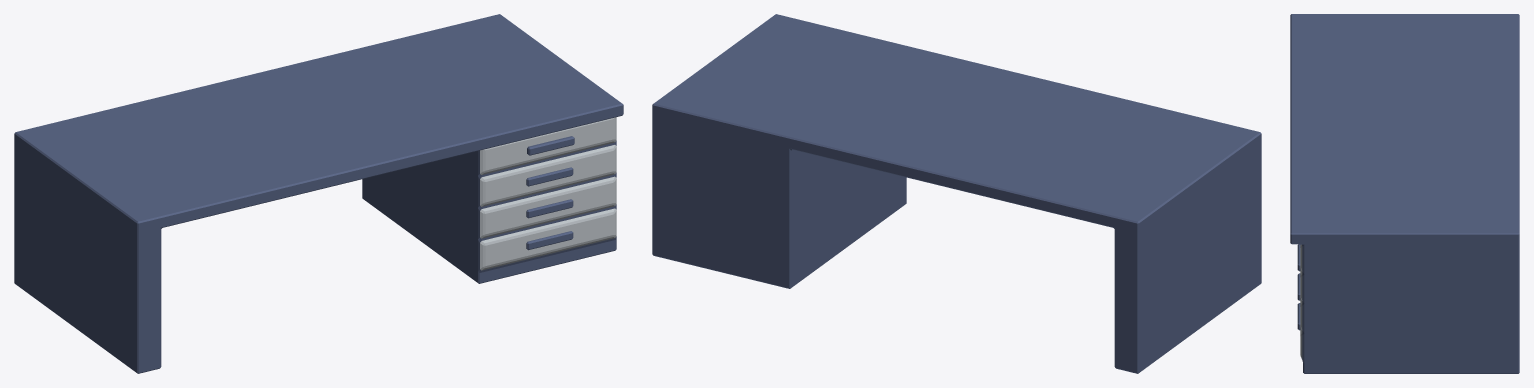
Rendered from Desk.fbx.
3 views of the same model, side by side, from view 1: azimuth 30°, elevation 25°; view 2: azimuth 150°, elevation 25°; view 3: azimuth 270°, elevation 25° (orthographic). The views are drawn at different scales.
Visible parts, largest first — view 1: desk; view 2: desk; view 3: desk.
Part boxes in pixels (x1,y1,x2,y2): desk: (14,14,623,373); desk: (652,14,1261,373); desk: (1290,14,1519,373).
Bounding box in the file's own units: 4 × 1.76 × 1.2.
